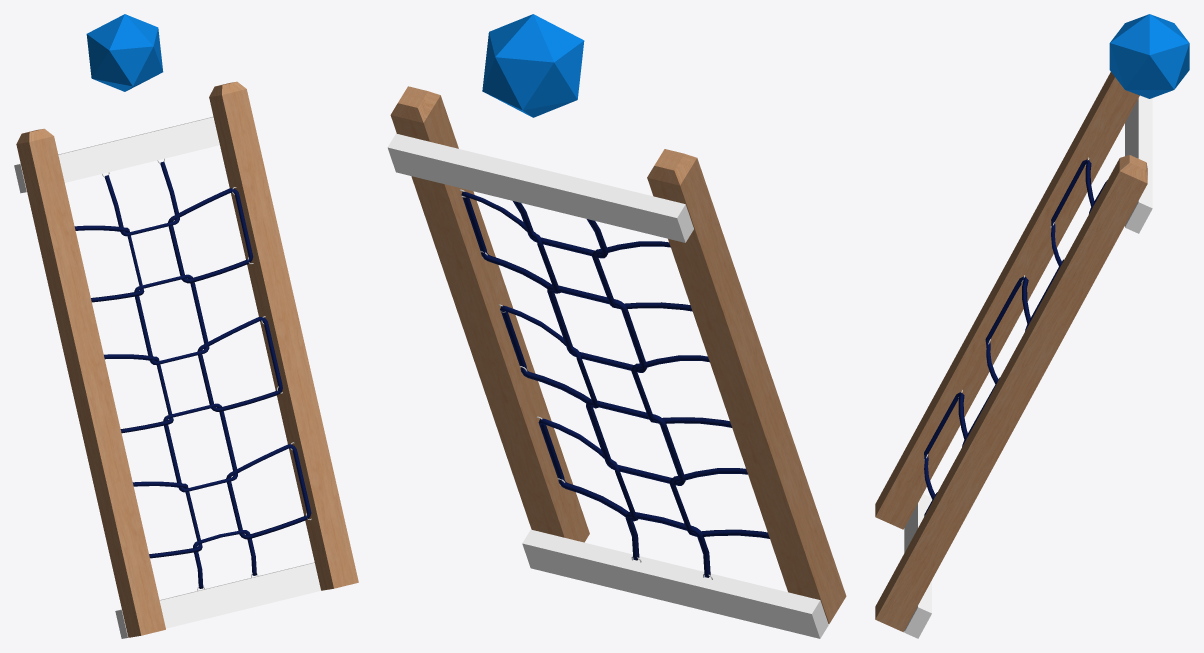
File: Cargo net bake.glb
The picture shows the model from 3 angles, left to right: view 1: azimuth 30°, elevation 25°; view 2: azimuth 150°, elevation 25°; view 3: azimuth 270°, elevation 25°; orthographic projection. The views are drawn at different scales.
Parts seen in each view (by area): view 1: Cube.107, Joint Deluxe sky.013; view 2: Cube.107, Joint Deluxe sky.013; view 3: Cube.107, Joint Deluxe sky.013.
Part boxes in pixels (x1,y1,x2,y2): Cube.107: (14, 81, 358, 638); Joint Deluxe sky.013: (86, 14, 163, 91); Cube.107: (387, 86, 846, 638); Joint Deluxe sky.013: (482, 14, 584, 117); Cube.107: (875, 72, 1152, 638); Joint Deluxe sky.013: (1109, 14, 1189, 98).
Size of the model in its own units: 0.889 by 2.03 by 1.02.
5 materials, 2 textured.
